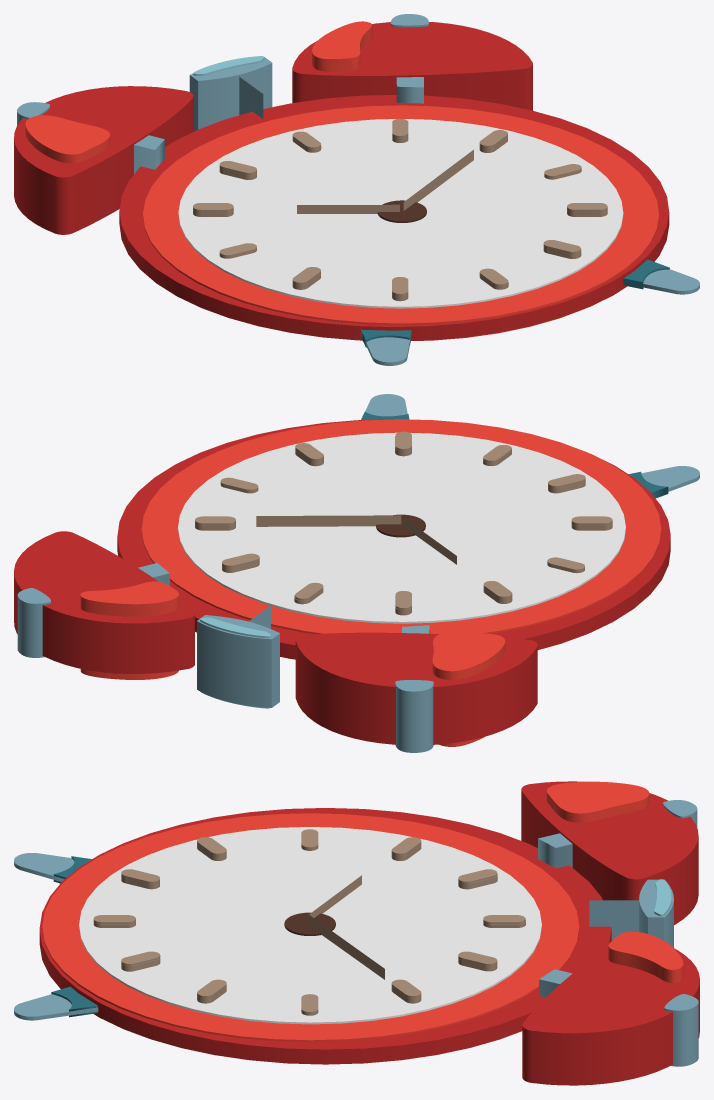
Rendered from emoji_u23f0.glb.
3 views of the same model, one above another, from view 1: azimuth 30°, elevation 25°; view 2: azimuth 150°, elevation 25°; view 3: azimuth 270°, elevation 25° (orthographic). The views are drawn at different scales.
Visible parts, largest first — view 1: emoji_u23f0; view 2: emoji_u23f0; view 3: emoji_u23f0.
Boxes of the visible parts, left/top/right/bottom form: emoji_u23f0: left=14, top=14, right=699, bottom=365; emoji_u23f0: left=14, top=394, right=699, bottom=752; emoji_u23f0: left=14, top=781, right=699, bottom=1085.
Size of the model in its own units: 0.0285 by 0.0042 by 0.0333.
